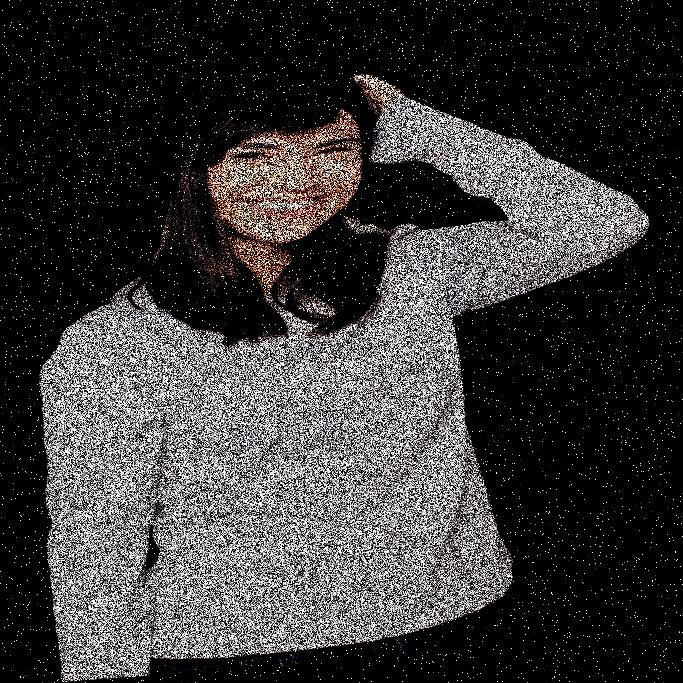Pessoa: (185, 0, 461, 682)
